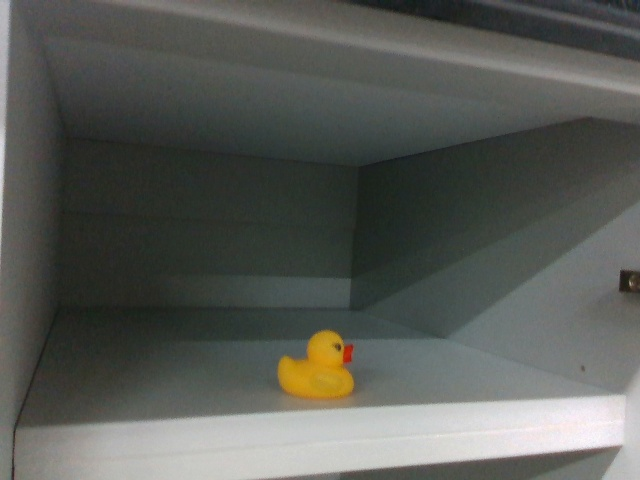duck: (275, 327, 358, 403)
